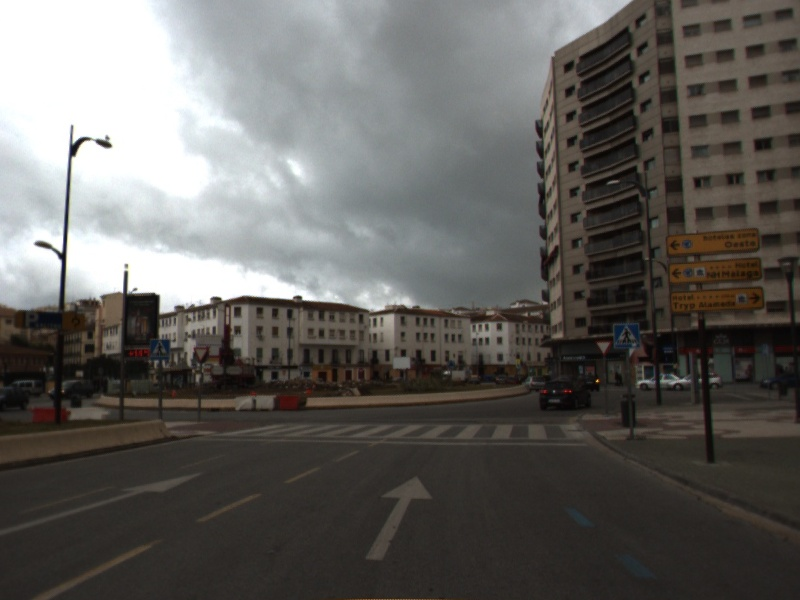STRAIGHT: (1, 469, 208, 538), (362, 474, 436, 563)
